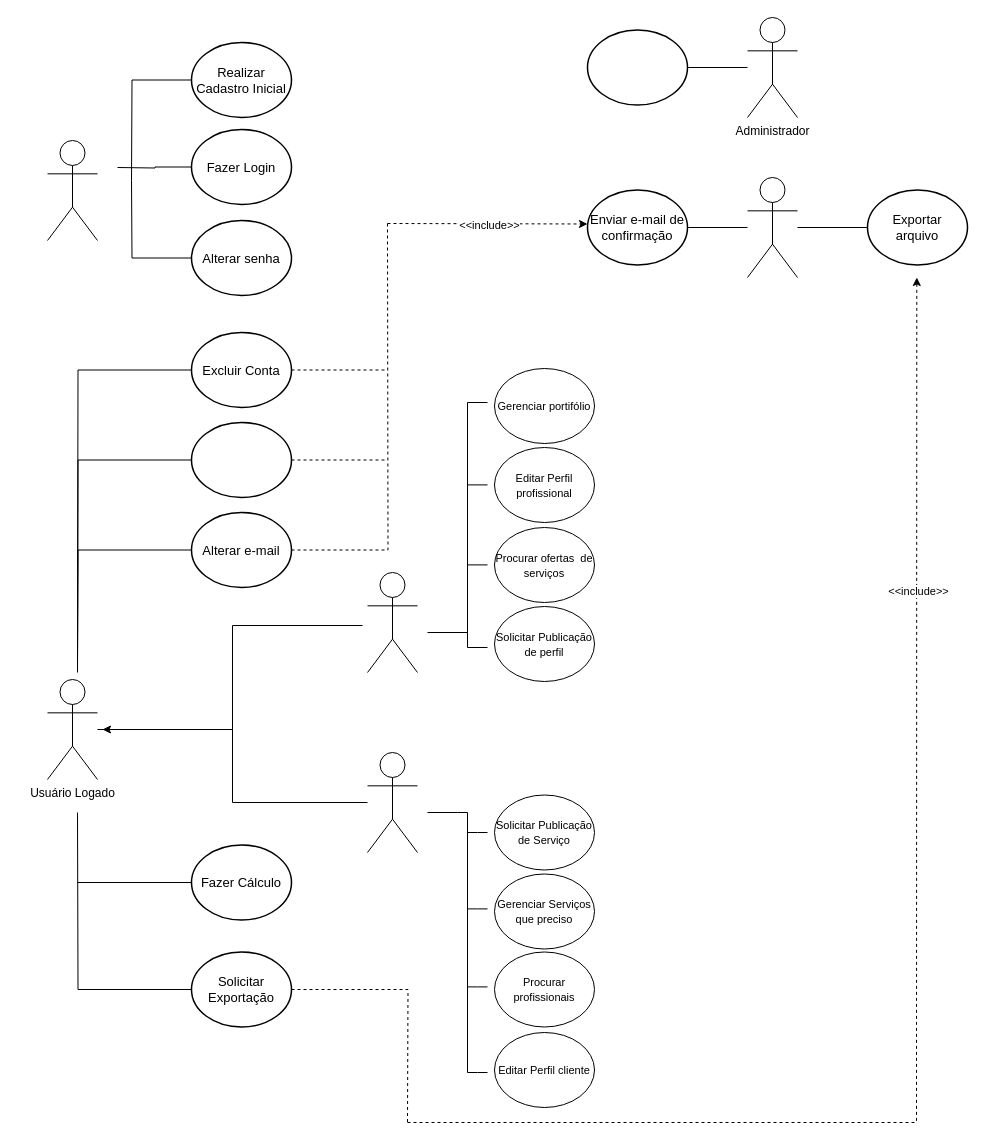
Image size: 986x1148. Some labels were removed from this diagram. The shapes that lost their labels are listed below. From the top down, each one's centre as x and y in pixels, then its label:
point (637, 67): Administrar Sistema
point (72, 190): Uusuário não logado
point (772, 227): Sistema
point (241, 459): Realizar Cadastro Complementar
point (392, 622): Profissional
point (392, 802): Cliente
